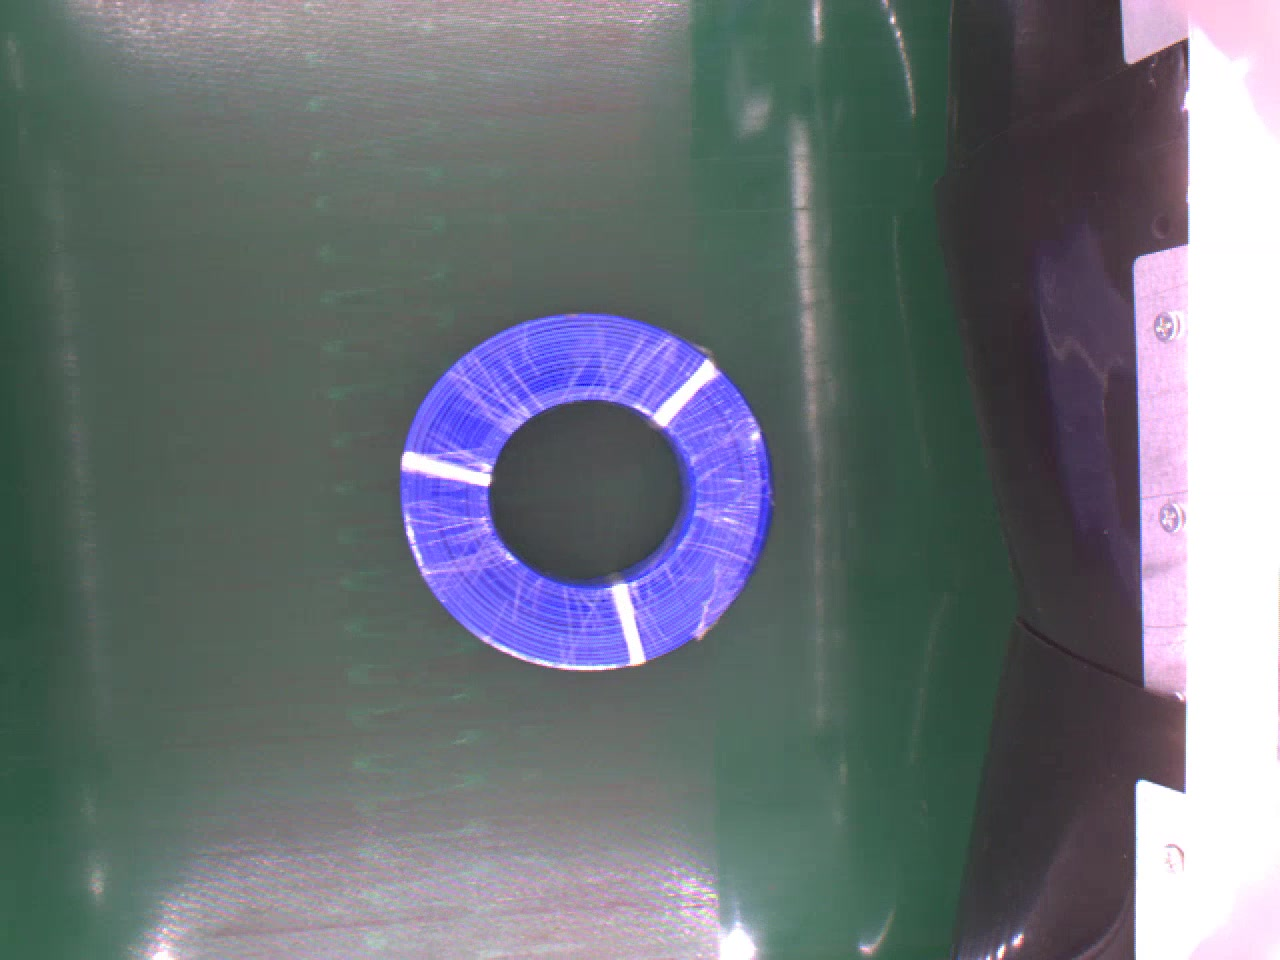blue: (397, 307, 779, 674)
